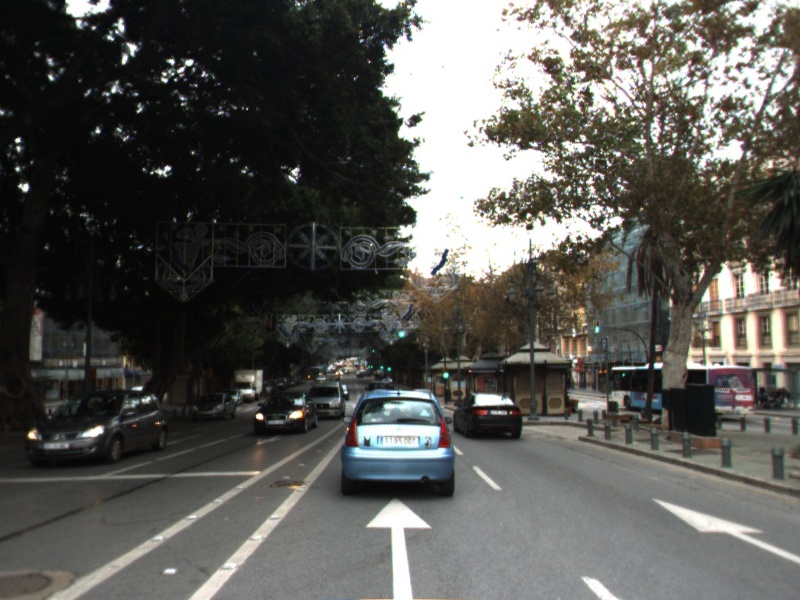STRAIGHT: (648, 494, 800, 564), (361, 494, 436, 600)
